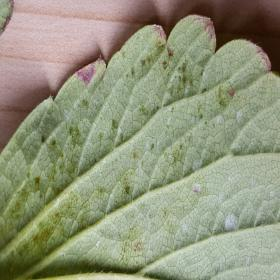Angular Leafspot: (0, 14, 270, 277)
